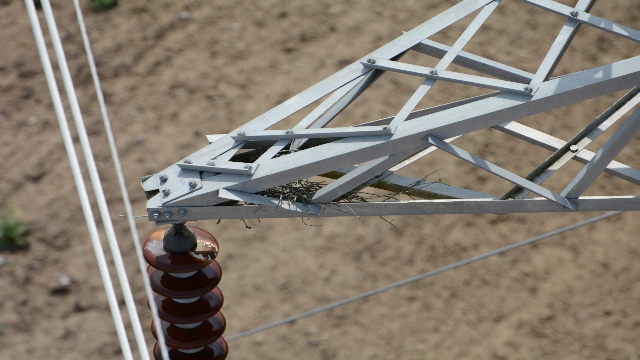insulator_unspecified: (143, 226, 230, 359)
pollution_flashover_local: (189, 236, 220, 262)
